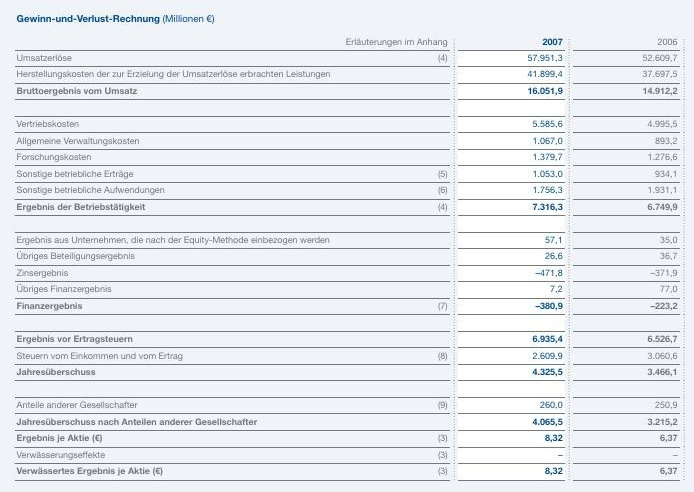table: (0, 0, 694, 492)
